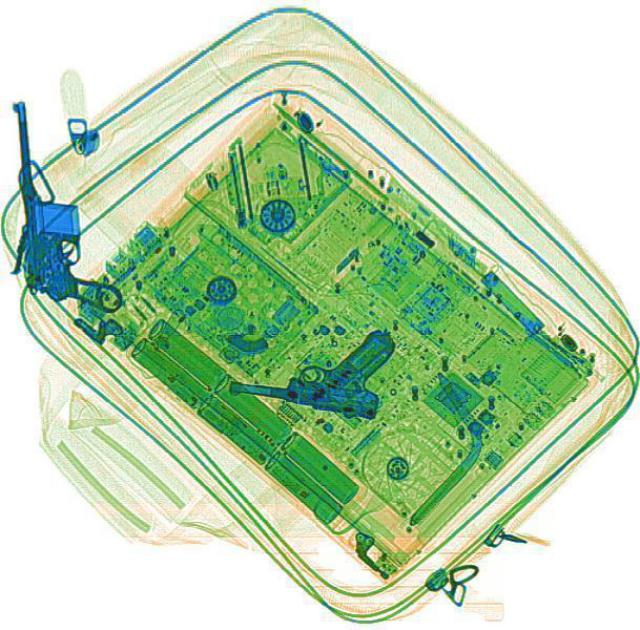Gun: (0, 96, 119, 314), (225, 308, 398, 418)
